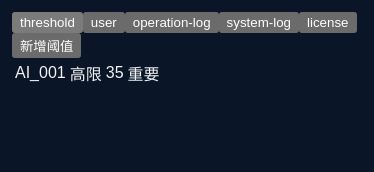
Test: SettingsPage 系统设置 › 管理员可见用户管理标签页
The image size is (374, 172).
Click the button with test id "tab-user" at point(104, 22), box [83, 12, 125, 33]
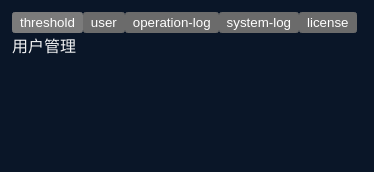
Result: the text "用户管理" is shown at [12, 38, 76, 55]
